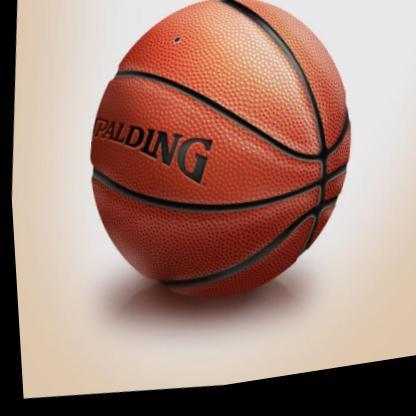basketball: (69, 0, 367, 332)
